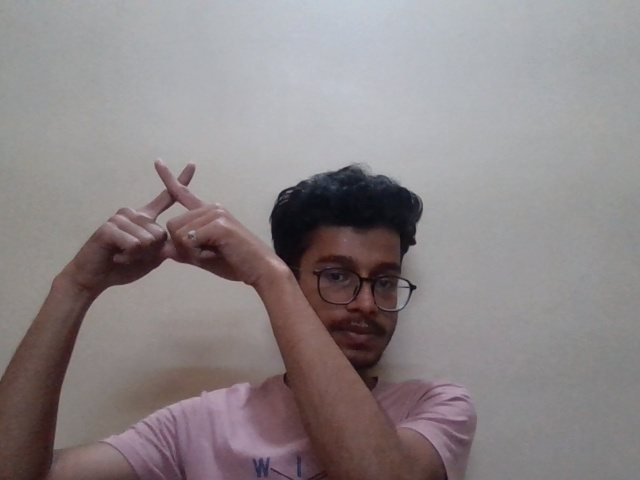X: (74, 157, 256, 291)
